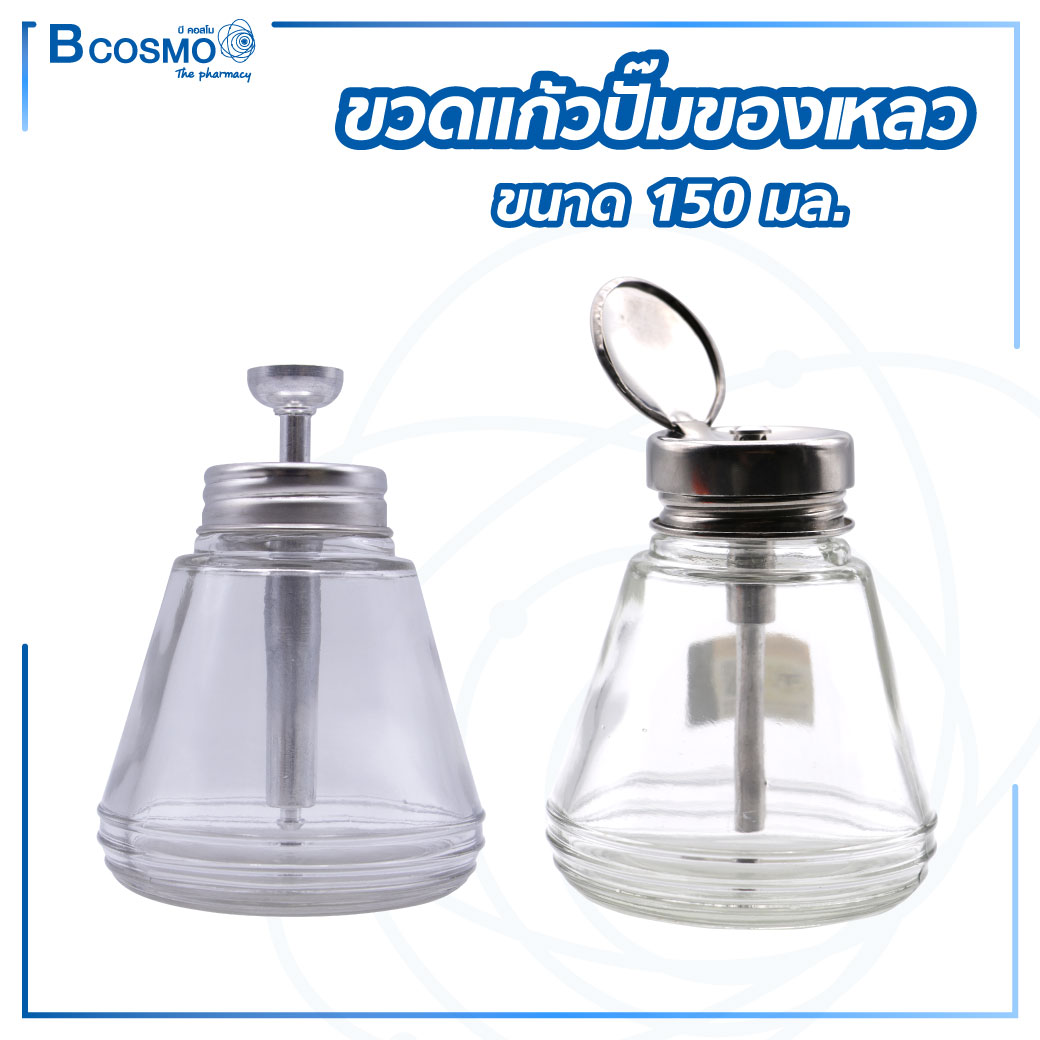glass_bottle: (537, 268, 952, 938), (84, 340, 512, 923)
